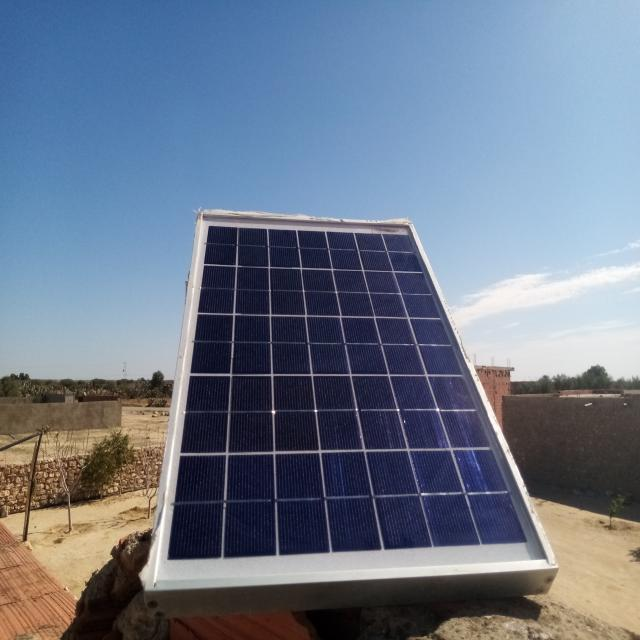no faulty: (149, 215, 555, 587)
